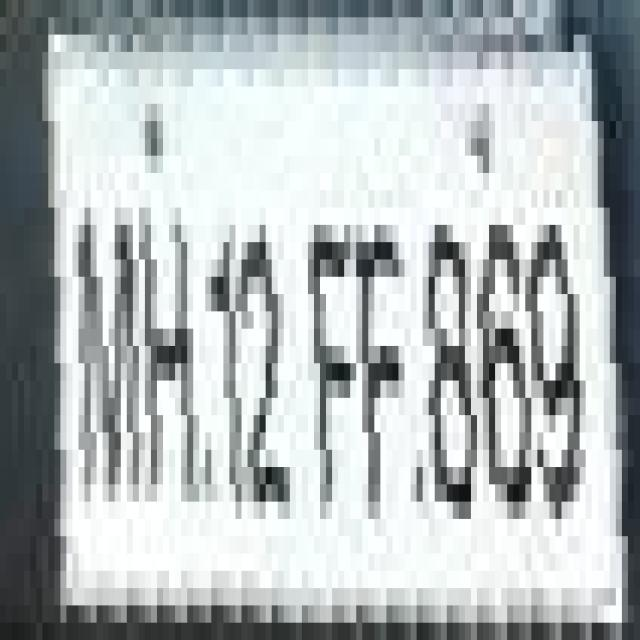license_plate: (12, 18, 640, 606)
